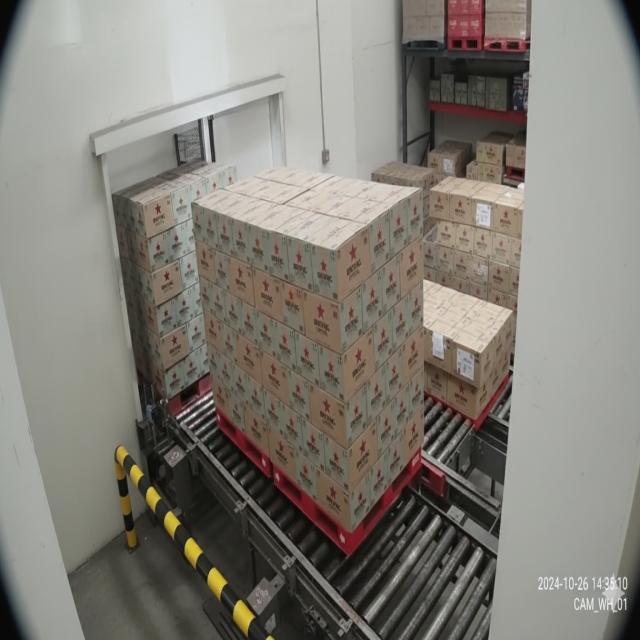pallet: (268, 165, 427, 564), (103, 152, 232, 424), (187, 147, 273, 497)
